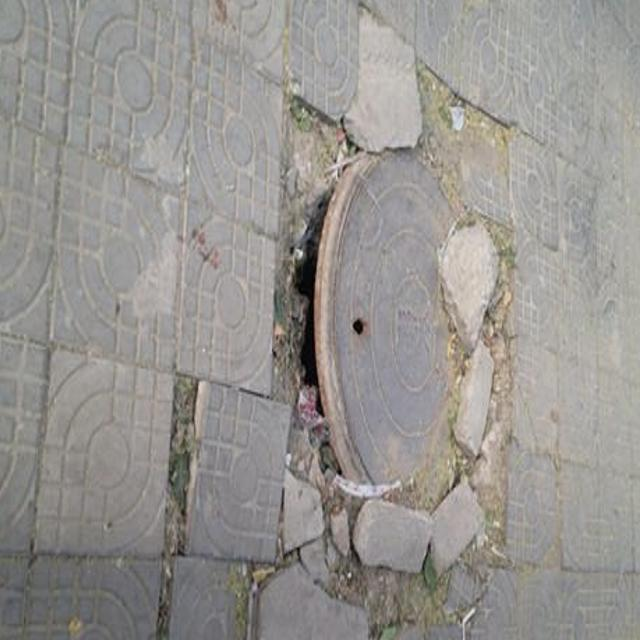circle: (246, 96, 519, 640)
